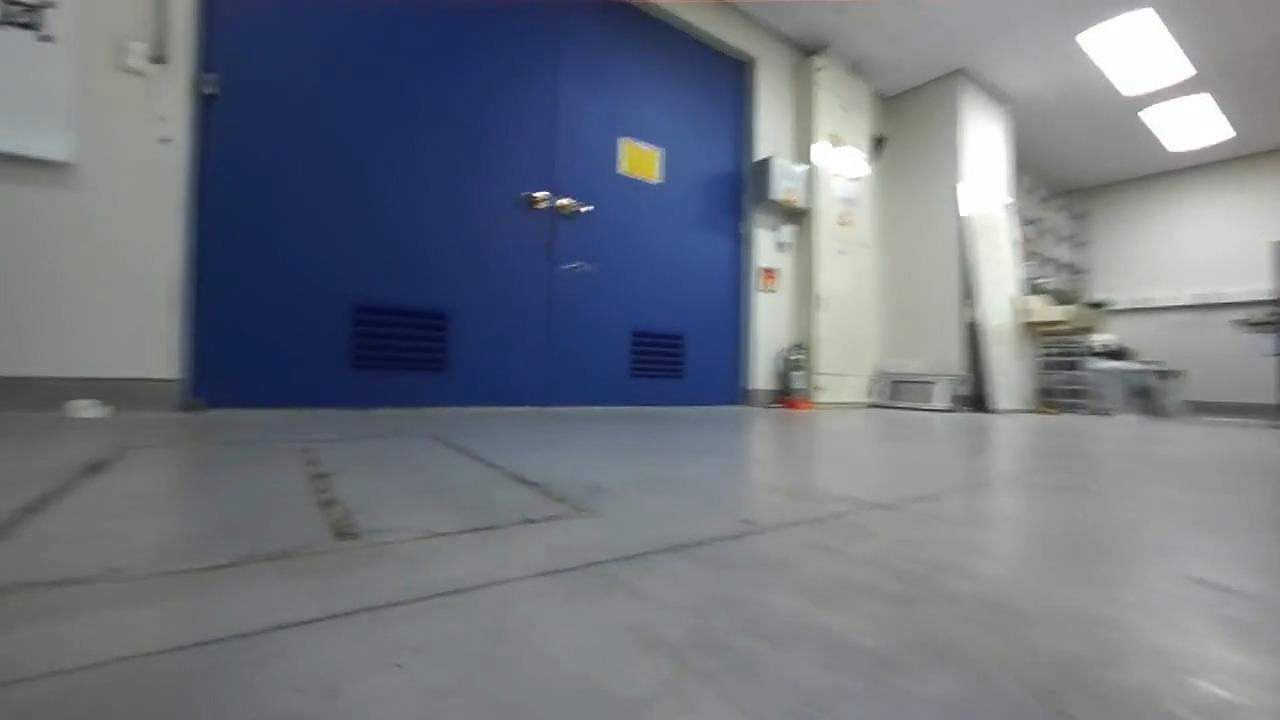crazyflie: (553, 256, 602, 277)
